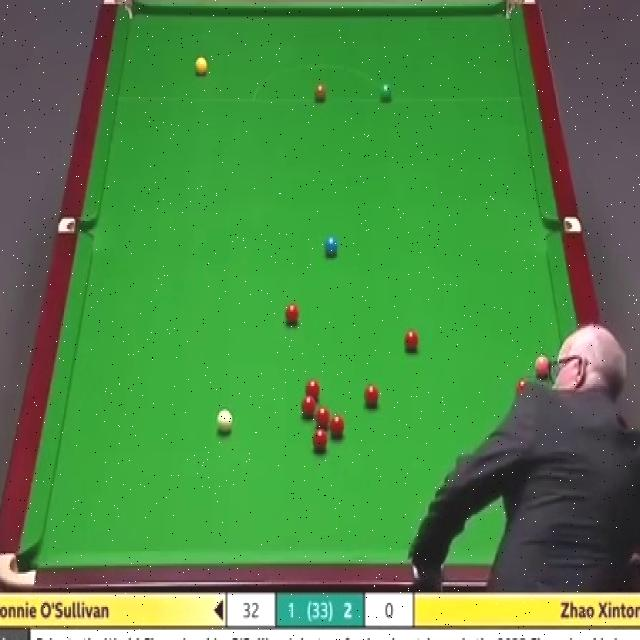blue-ball: (326, 234, 338, 257)
brown-ball: (313, 83, 328, 102)
green-ball: (378, 81, 394, 104)
pink-ball: (534, 354, 550, 377)
red-ball: (362, 382, 380, 411), (402, 328, 420, 352), (328, 416, 346, 439), (284, 299, 298, 325), (316, 408, 331, 431), (312, 428, 327, 451), (304, 380, 321, 400), (301, 398, 316, 420)
white-ball: (216, 408, 233, 437)
yellow-ball: (194, 55, 208, 78)
